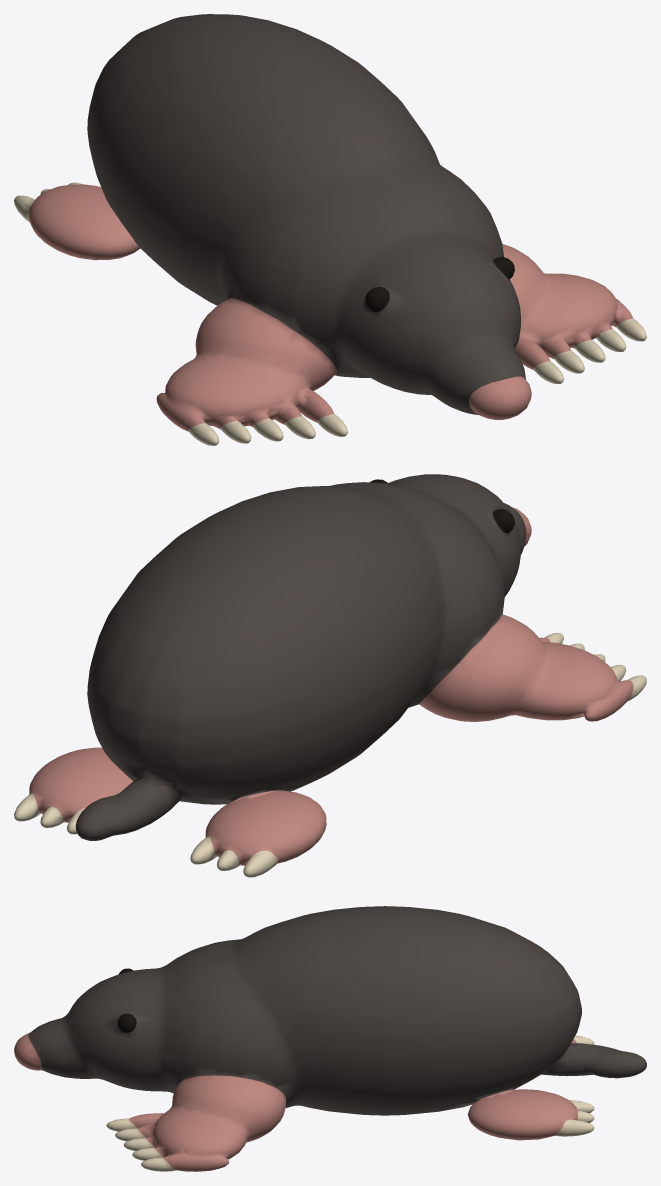
File: NEW_RECOVERY_095_LOD1.glb
3 views of the same model, one above another, from view 1: azimuth 30°, elevation 25°; view 2: azimuth 150°, elevation 25°; view 3: azimuth 270°, elevation 25° (orthographic). The views are drawn at different scales.
Visible parts, largest first — view 1: Mole_complete; view 2: Mole_complete; view 3: Mole_complete.
Boxes of the visible parts, <box> form: Mole_complete: <box>14,14,646,445</box>; Mole_complete: <box>14,474,646,877</box>; Mole_complete: <box>14,906,646,1171</box>.
Size of the model in its own units: 2.03 by 1.08 by 3.29.
